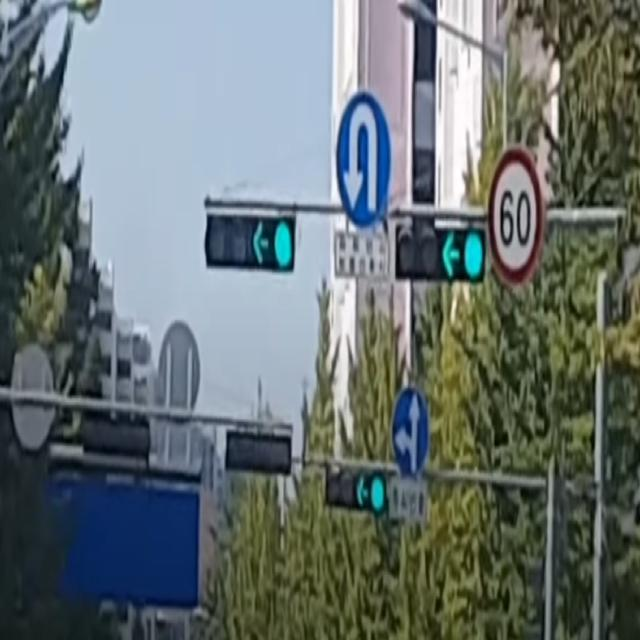Green Light: (462, 229, 484, 280), (273, 219, 294, 269), (370, 472, 386, 513)
